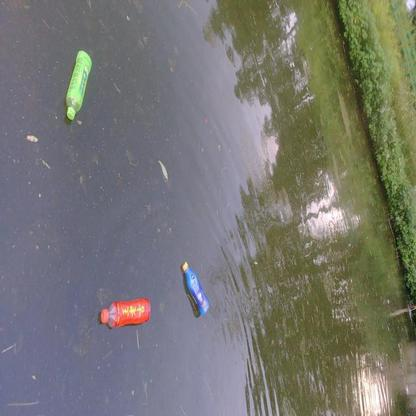plastic bottle: (66, 51, 92, 120), (181, 262, 211, 316), (99, 298, 152, 326)
